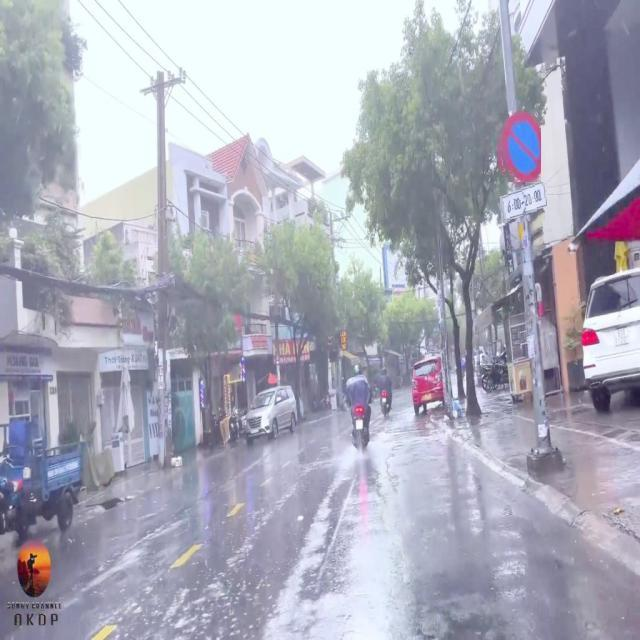131a-cam-do-xe: (499, 110, 542, 181)
